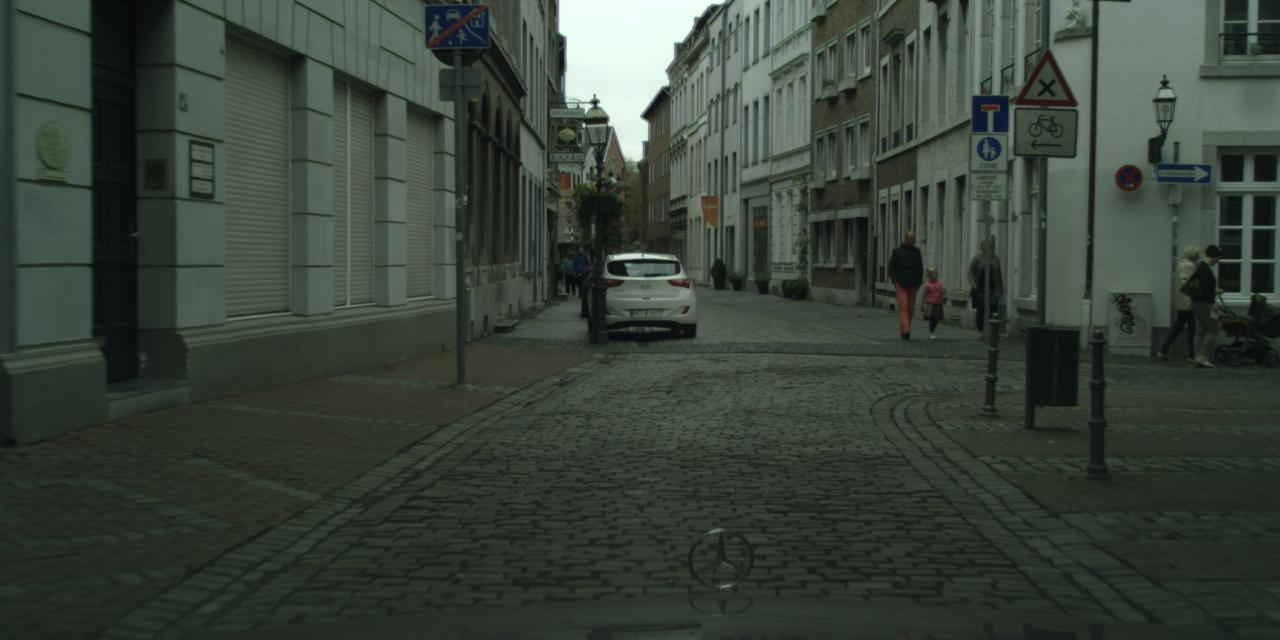ped: (1182, 244, 1231, 366), (1161, 244, 1208, 360), (886, 230, 930, 338), (964, 237, 1005, 337), (918, 266, 947, 338), (569, 246, 590, 298), (562, 250, 580, 294)
